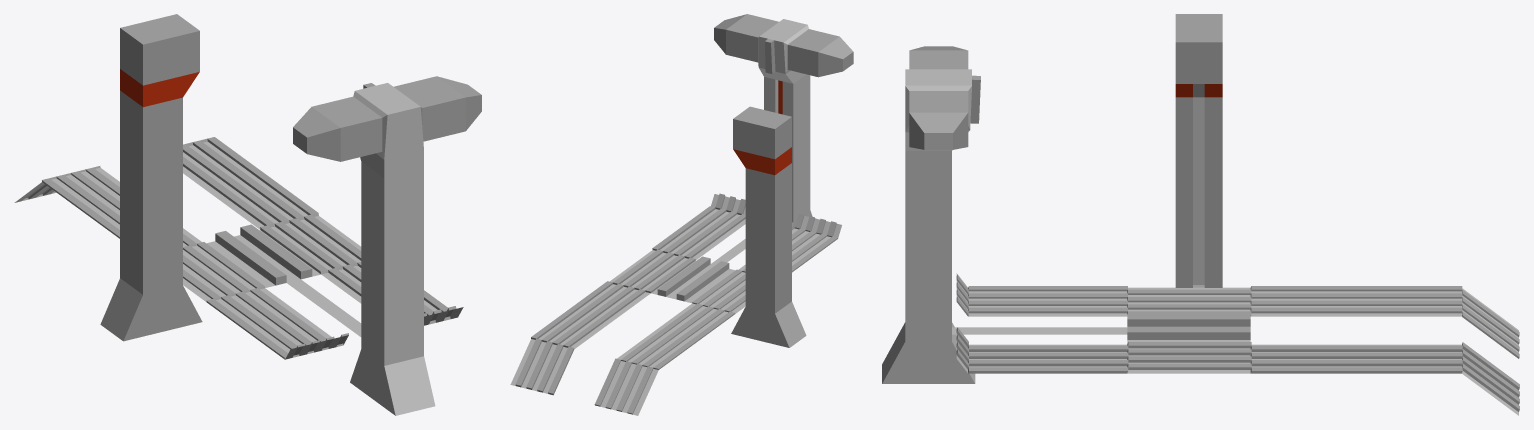
Rendered from estrade.fbx.
3 views of the same model, side by side, from view 1: azimuth 30°, elevation 25°; view 2: azimuth 150°, elevation 25°; view 3: azimuth 270°, elevation 25° (orthographic). The views are drawn at different scales.
Parts seen in each view (by area): view 1: Cube.001, Plane, Cube; view 2: Plane, Cube, Cube.001; view 3: Plane, Cube.001, Cube.
Boxes of the visible parts, <box> form: Cube.001: <box>293,76,481,415</box>; Plane: <box>14,137,463,359</box>; Cube: <box>100,14,202,341</box>; Plane: <box>510,193,841,415</box>; Cube: <box>731,106,806,347</box>; Cube.001: <box>714,14,853,229</box>; Plane: <box>952,273,1519,415</box>; Cube.001: <box>882,46,980,383</box>; Cube: <box>1175,14,1222,287</box>.
Bounding box in the file's own units: 281 × 334 × 651.
